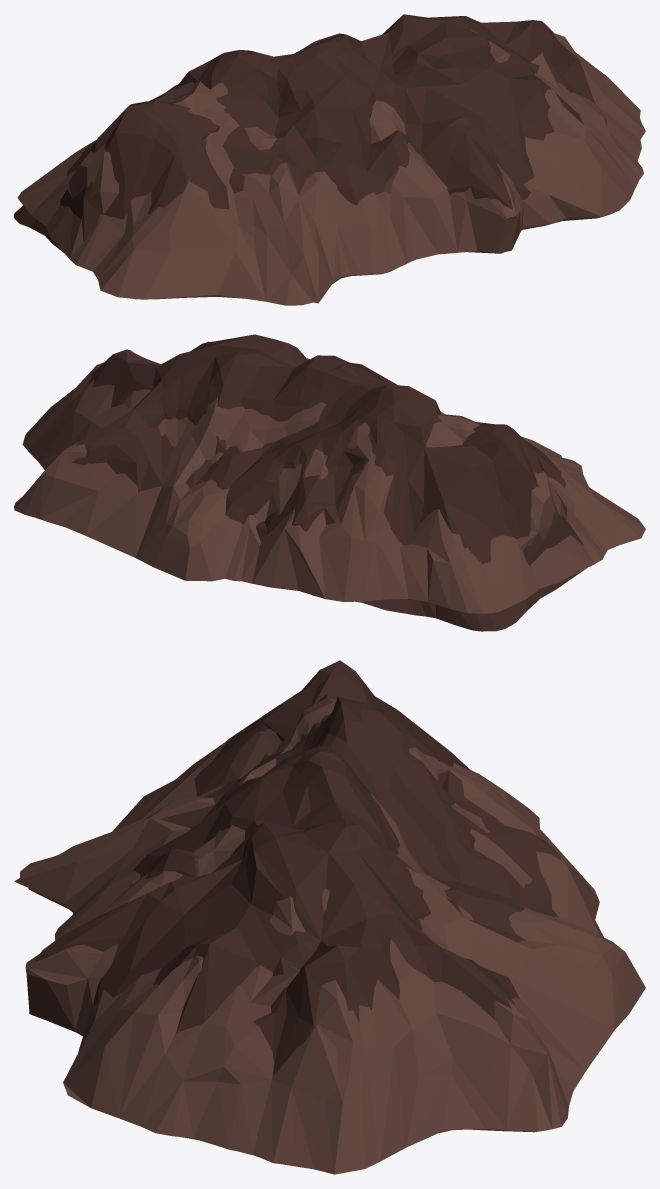
Rendered from brown_mountain_001.fbx.
3 views of the same model, one above another, from view 1: azimuth 30°, elevation 25°; view 2: azimuth 150°, elevation 25°; view 3: azimuth 270°, elevation 25° (orthographic). The views are drawn at different scales.
Parts seen in each view (by area): view 1: brown_mountain_001; view 2: brown_mountain_001; view 3: brown_mountain_001.
Boxes of the visible parts, x1=… form: brown_mountain_001: x1=14, y1=14, x2=645, y2=305; brown_mountain_001: x1=14, y1=334, x2=645, y2=631; brown_mountain_001: x1=14, y1=660, x2=645, y2=1174.
Size of the model in its own units: 11997 by 8140 by 3296.
